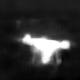plane: (15, 31, 75, 67)
